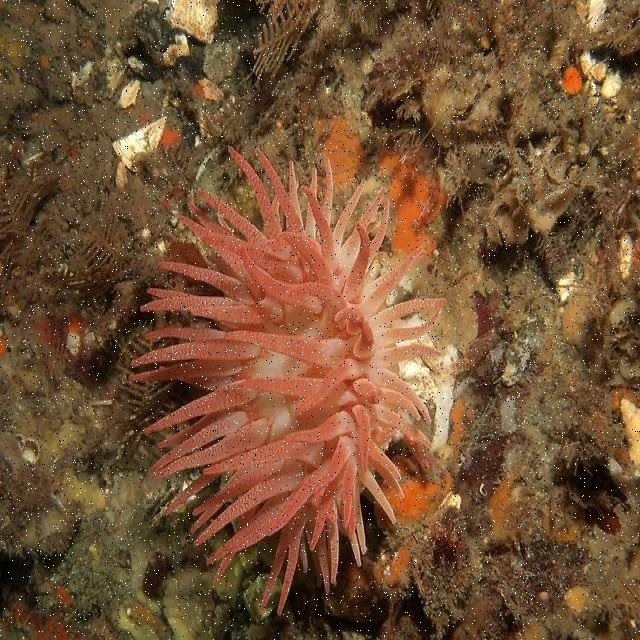reefs: (128, 141, 446, 618)
